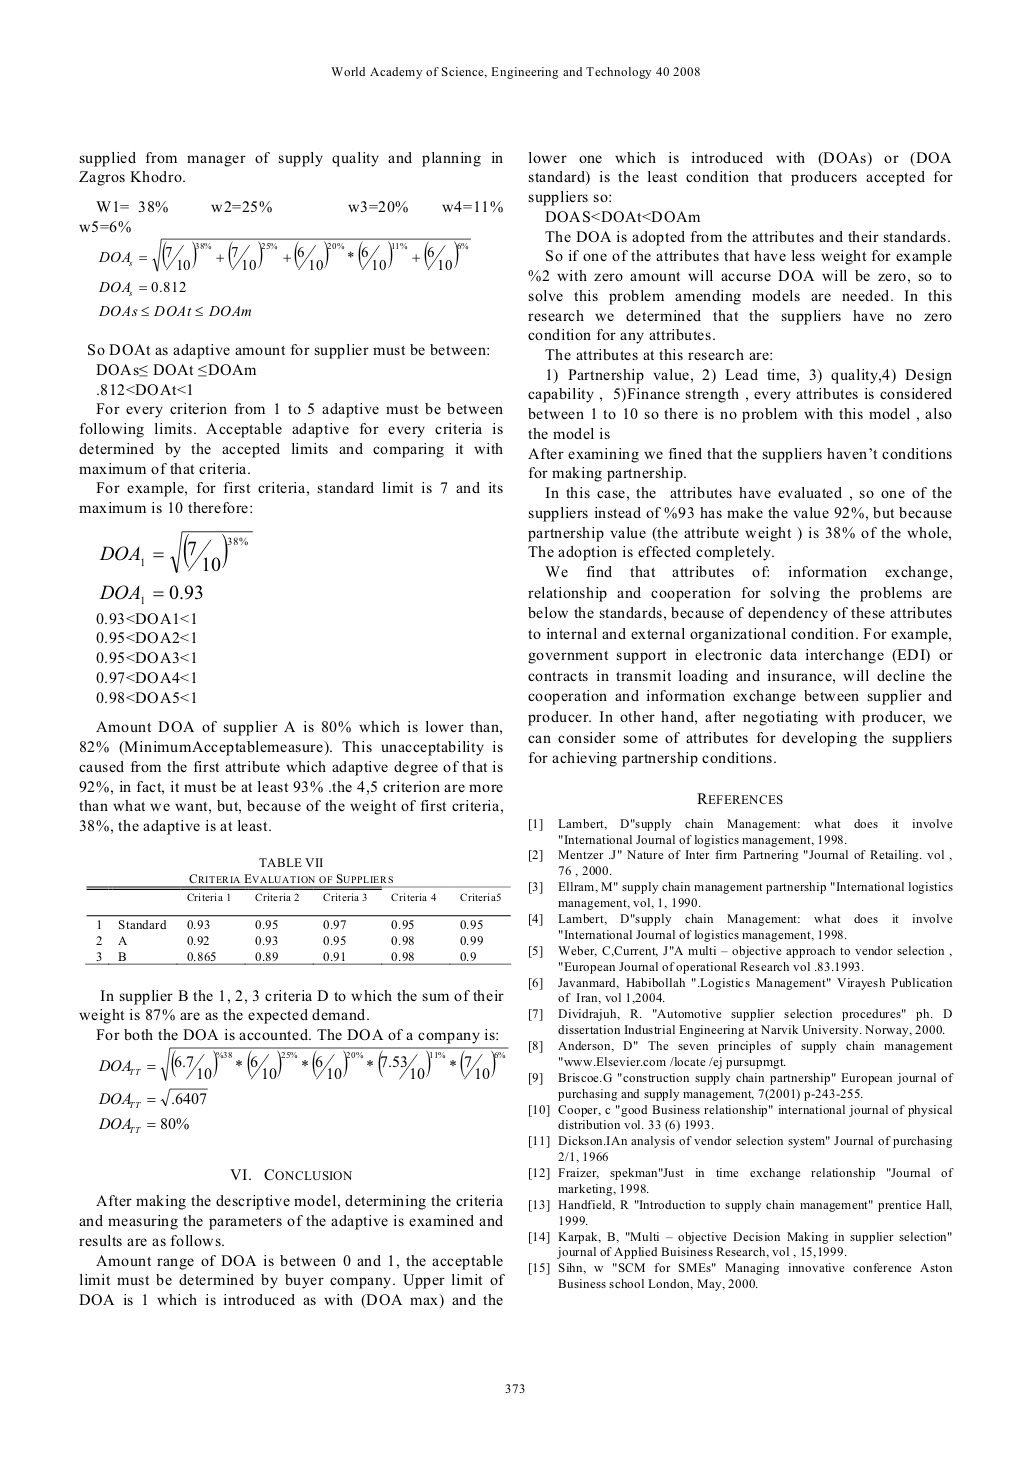Table: (85, 874, 512, 964)
formula: (98, 237, 470, 272), (98, 1047, 508, 1079), (99, 530, 252, 573), (98, 1087, 207, 1108), (99, 584, 202, 604), (98, 304, 250, 317), (98, 1117, 188, 1133), (98, 280, 185, 296), (96, 612, 195, 625), (96, 631, 195, 644), (96, 651, 195, 664), (96, 671, 195, 684), (96, 691, 195, 704)
